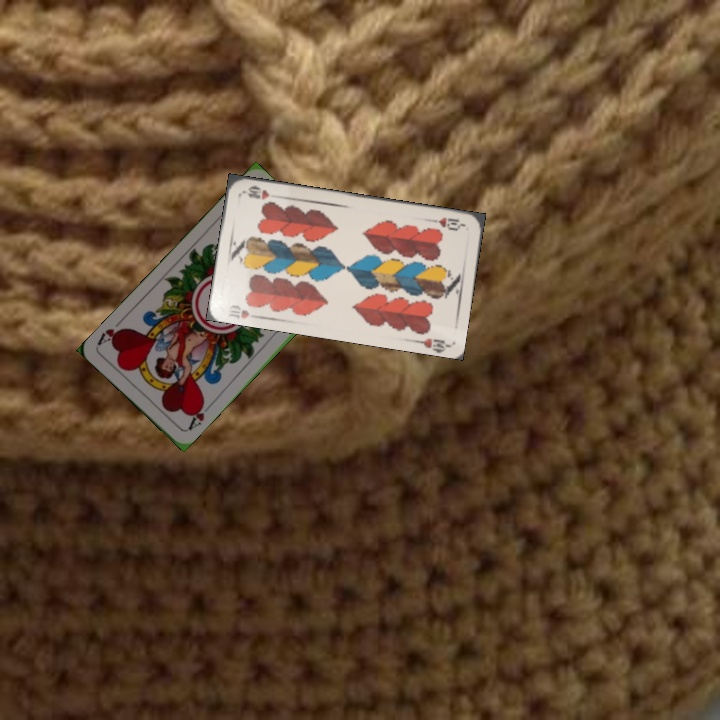H10: (427, 213, 468, 233), (224, 301, 262, 321)
HA: (184, 396, 214, 433)
